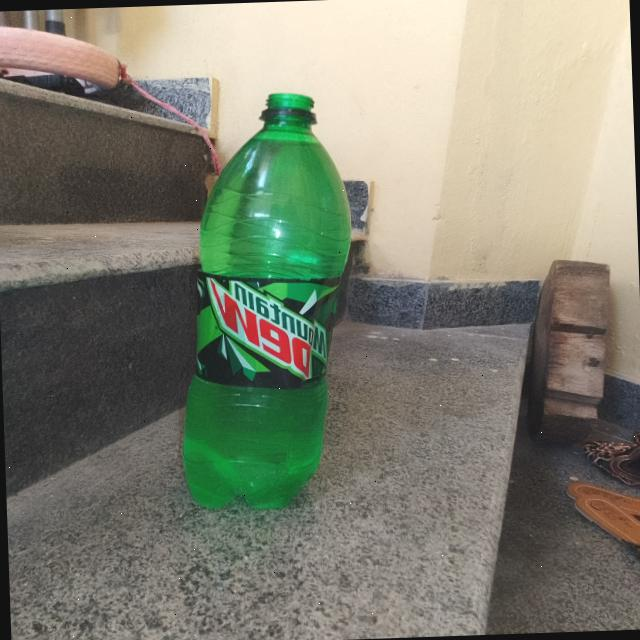bottle: (132, 83, 354, 530)
label: (187, 268, 333, 406)
